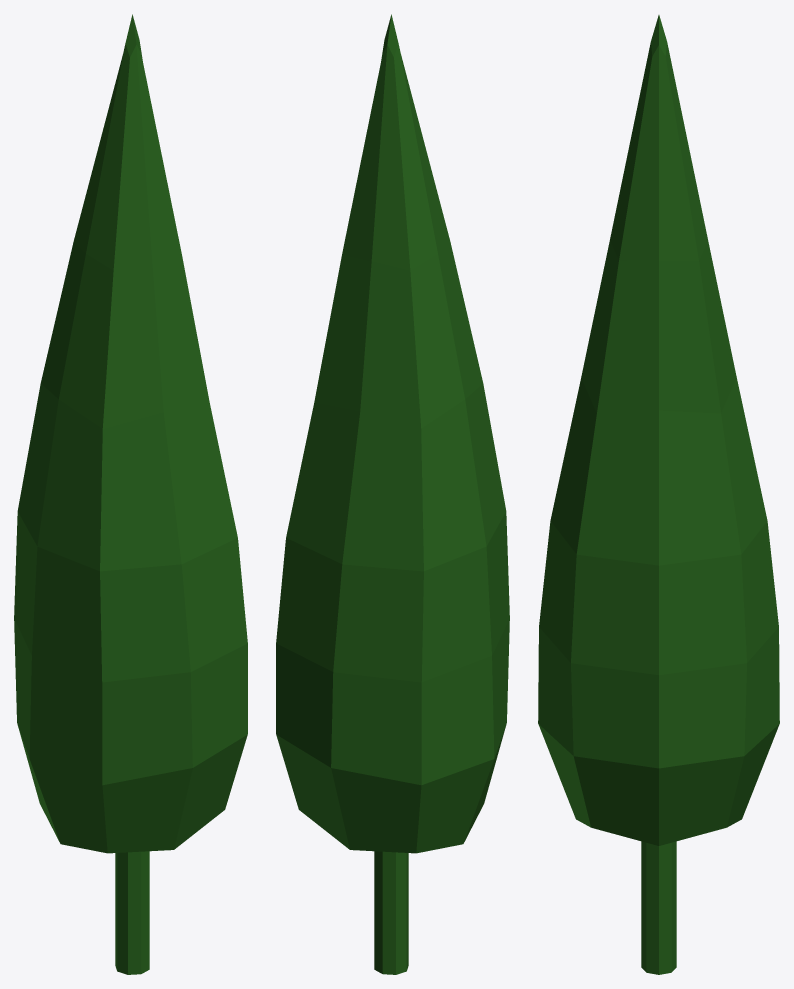
Rendered from cypressTree_1.fbx.
3 views of the same model, side by side, from view 1: azimuth 30°, elevation 25°; view 2: azimuth 150°, elevation 25°; view 3: azimuth 270°, elevation 25° (orthographic).
Visible parts, largest first — view 1: cypressTree_1; view 2: cypressTree_1; view 3: cypressTree_1.
Part boxes in pixels (x1,y1,x2,y2): cypressTree_1: (14, 14, 247, 974); cypressTree_1: (276, 14, 509, 974); cypressTree_1: (538, 15, 779, 974).
Size of the model in its own units: 1.44 by 6.39 by 1.47.
